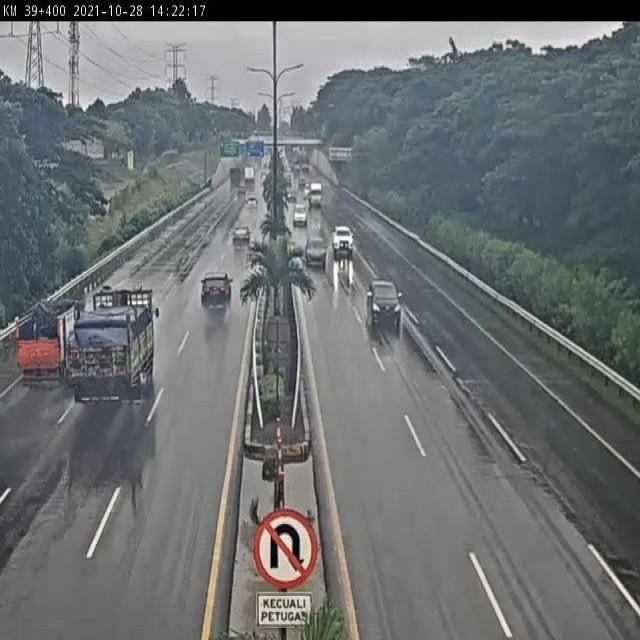car: (365, 276, 404, 329), (199, 270, 234, 314), (330, 225, 354, 258), (303, 233, 327, 266)
truck-l-: (69, 283, 157, 404)
truck-s-: (14, 294, 82, 386)
